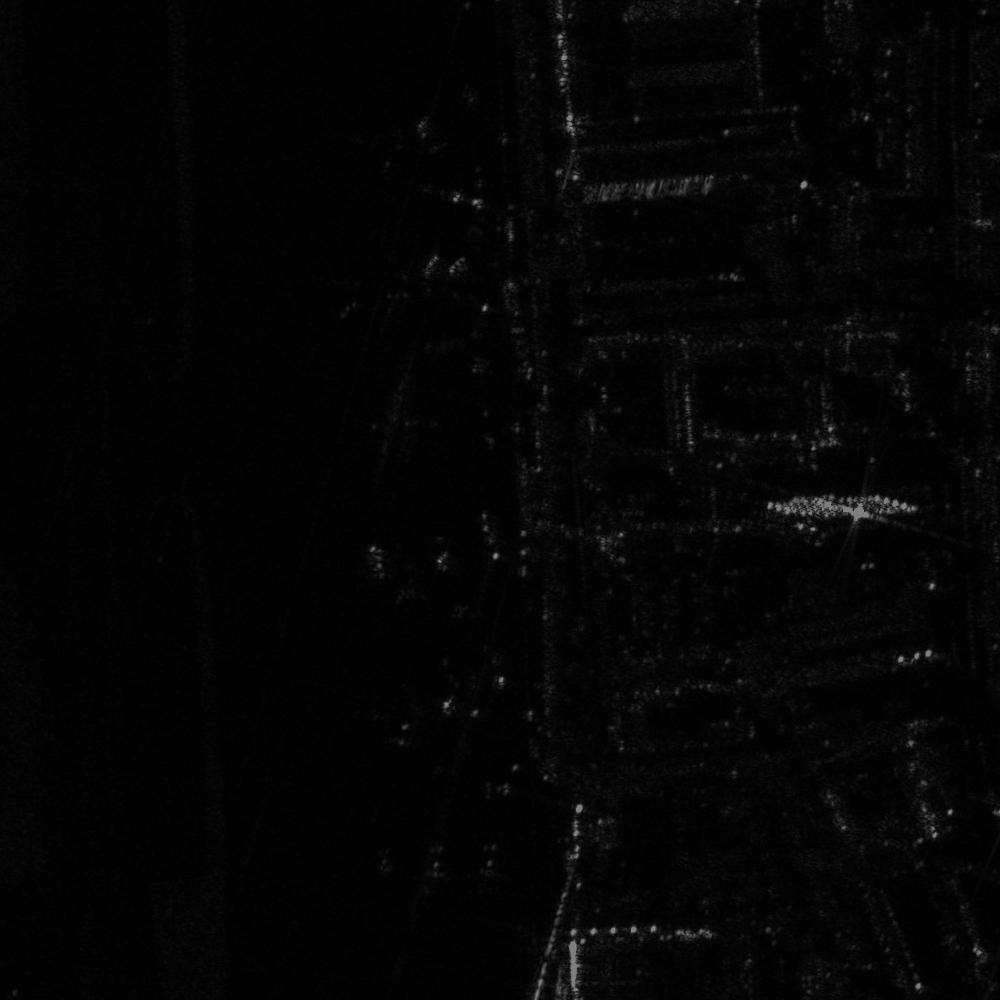ARJ21: (356, 525, 462, 608)
other: (347, 662, 464, 758)
